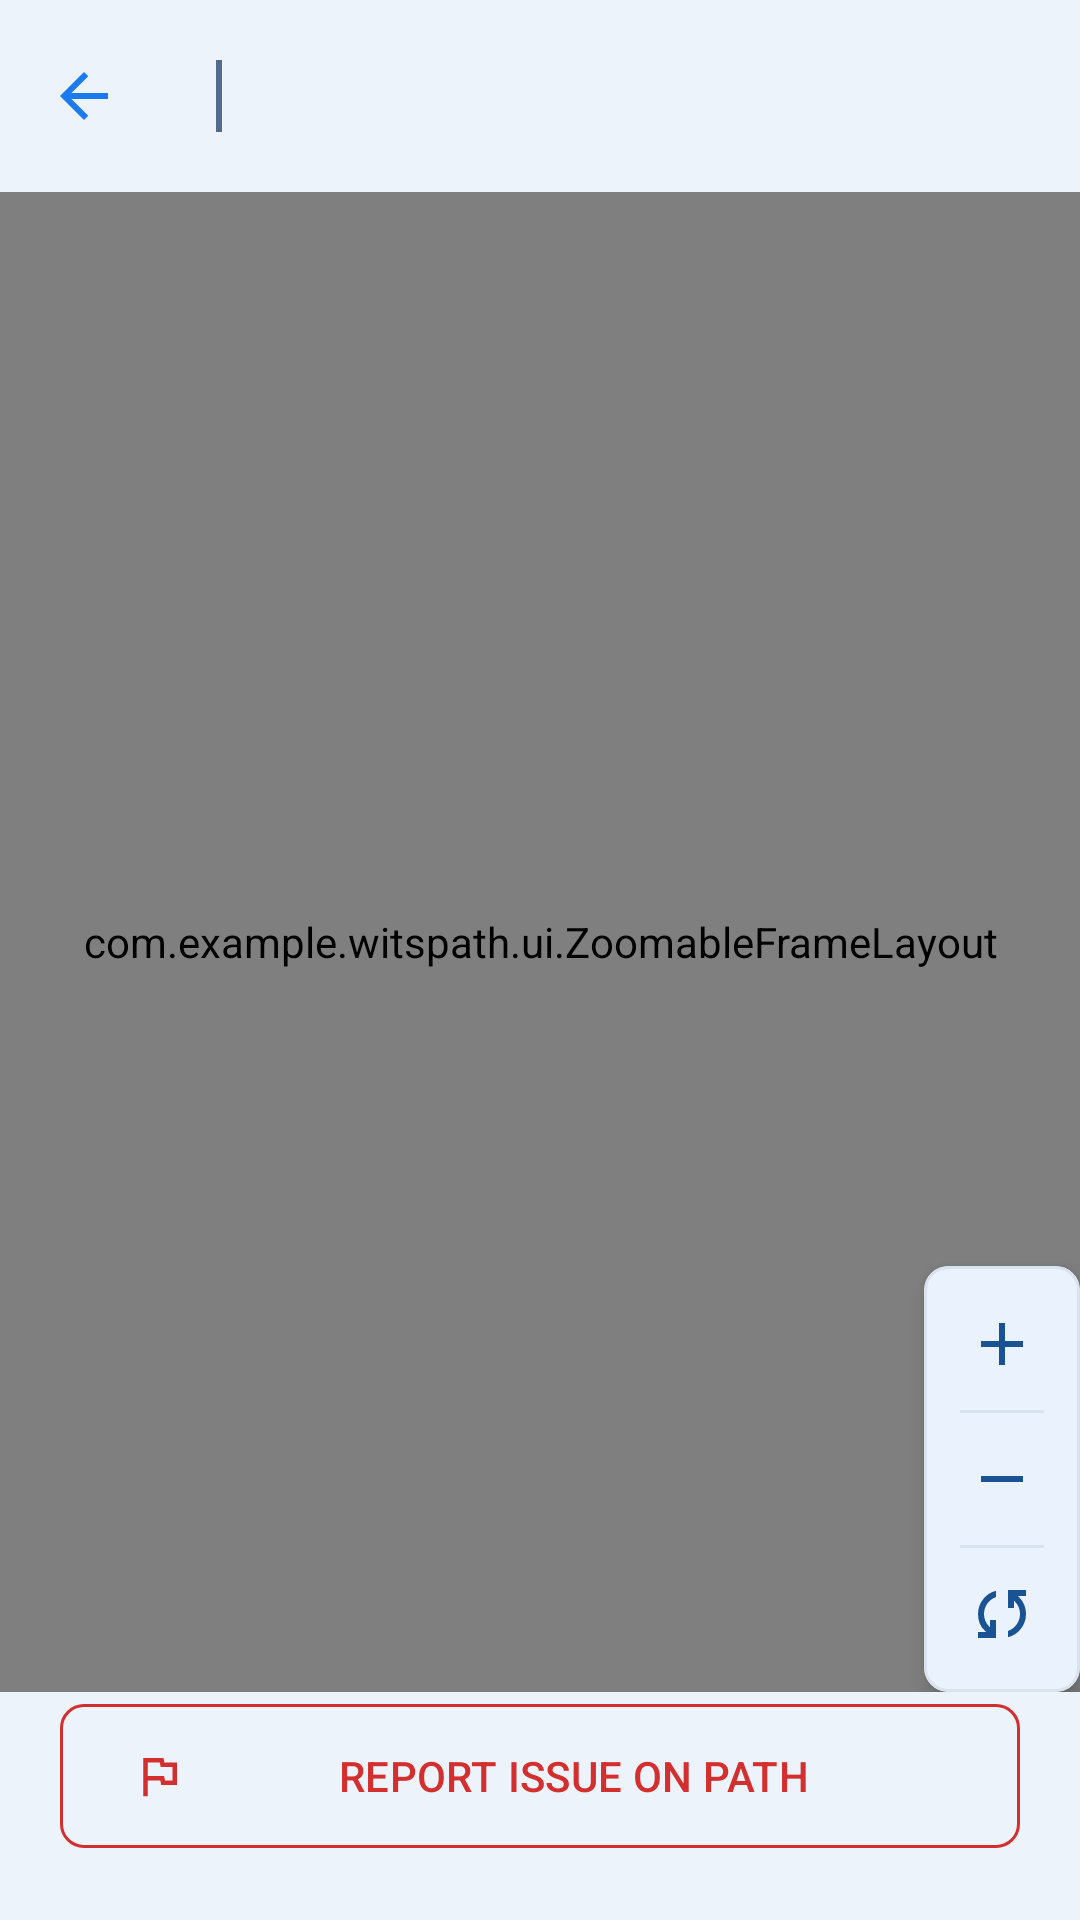

Icons on this 1080px×1920px Android screen, each with the point to tap as point (x, y):
Reset Map: point (1002, 1614)
Zoom In: point (1002, 1344)
